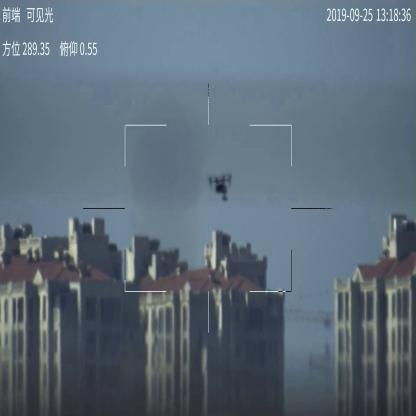uav: (207, 171, 235, 200)
